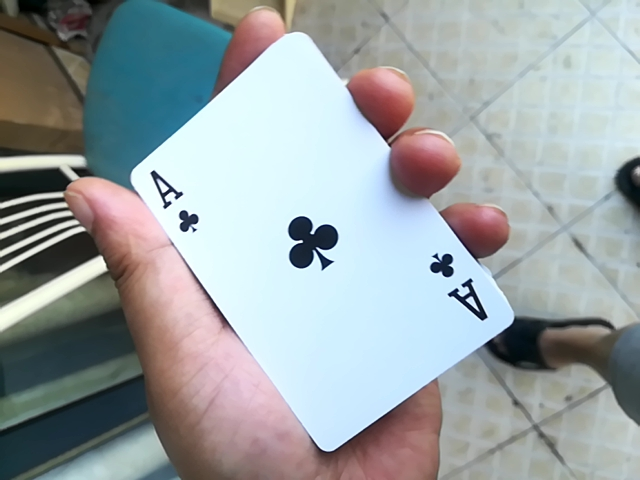mh a: (120, 31, 507, 459)
